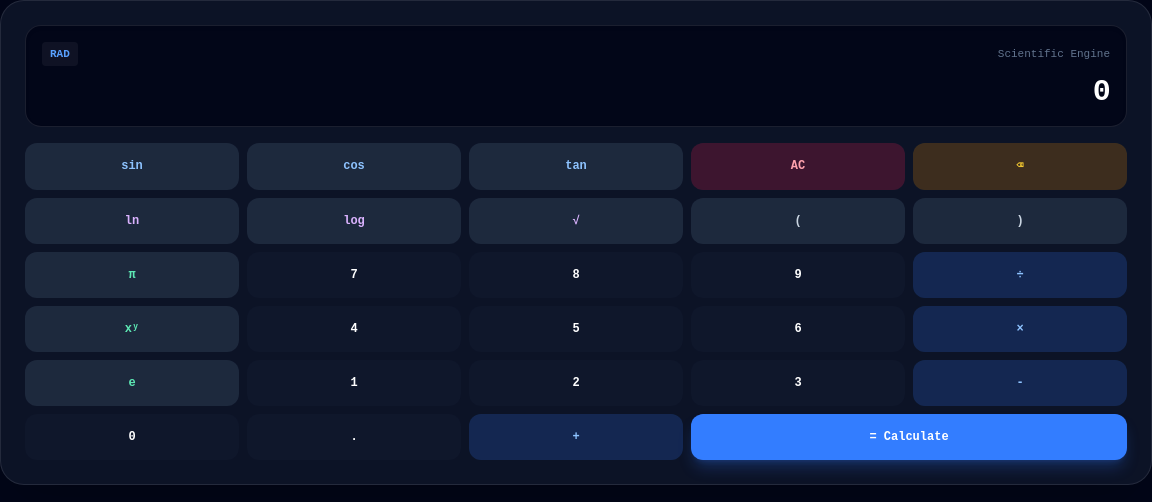
Scenario: Science & Math Client Suite › renders ScientificKeypad and handles input
Expected: the button "= Calculate" is shown, [691,414,1127,460]
Click the button "RAD" at {"x": 60, "y": 54}, box [42,42,78,66]
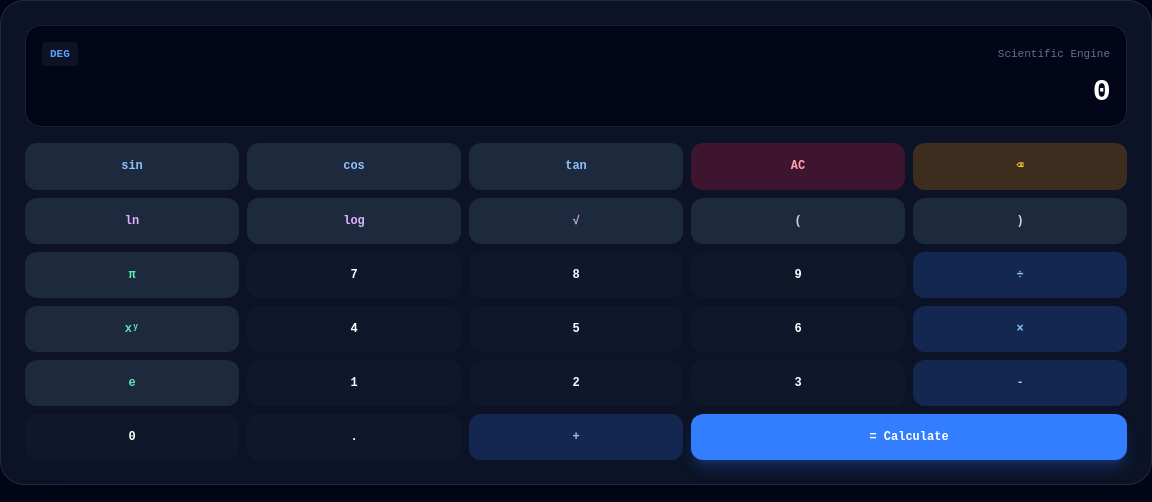
Expected: the button "DEG" is shown, [42,42,78,66]
